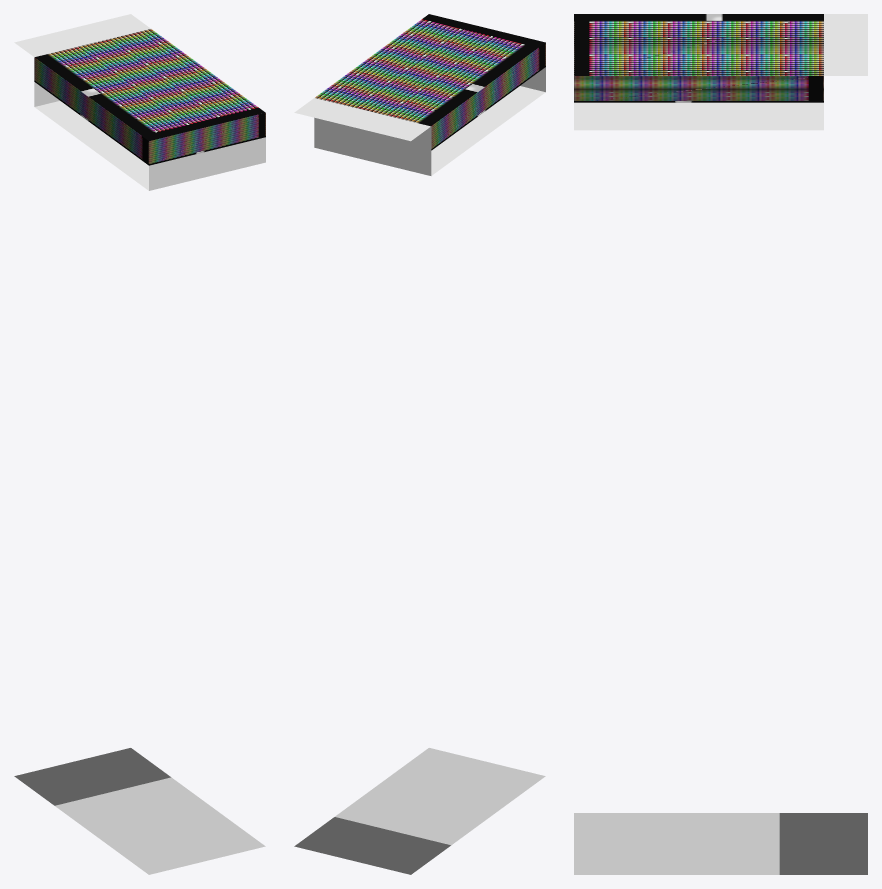
The model's file is ground_line_1_h.fbx.
The picture shows the model from 3 angles, left to right: view 1: azimuth 30°, elevation 25°; view 2: azimuth 150°, elevation 25°; view 3: azimuth 270°, elevation 25°; orthographic projection. The views are drawn at different scales.
Visible parts, largest first — view 1: shadowsOnly, ground_line_1_h, ceiling_line_1_h; view 2: shadowsOnly, ground_line_1_h, ceiling_line_1_h; view 3: shadowsOnly, ground_line_1_h, ceiling_line_1_h.
Boxes of the visible parts, x1,y1,x2,y2 form: shadowsOnly: (34,29,265,165); ground_line_1_h: (14,748,265,874); ceiling_line_1_h: (14,14,265,190); shadowsOnly: (314,14,545,150); ground_line_1_h: (294,748,545,874); ceiling_line_1_h: (294,67,545,175); shadowsOnly: (574,14,823,102); ground_line_1_h: (574,813,867,874); ceiling_line_1_h: (574,14,867,130).
Size of what is drawn, in the model's own units: 50 by 300 by 100.
